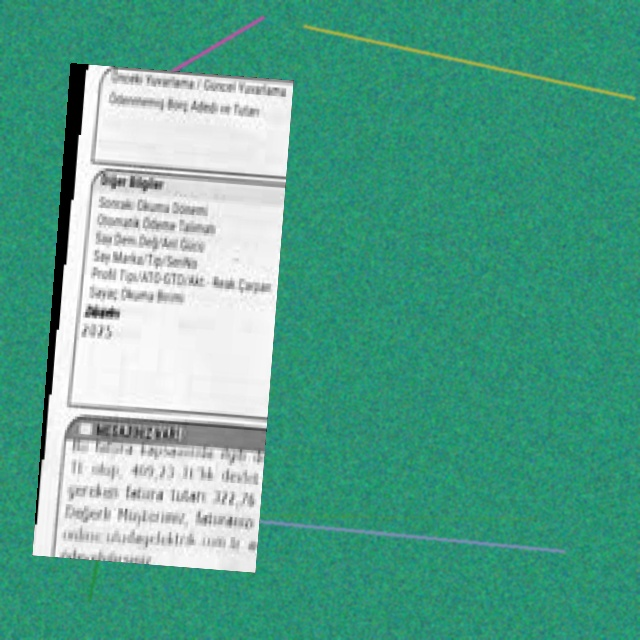electricity-bill: (31, 63, 293, 573)
